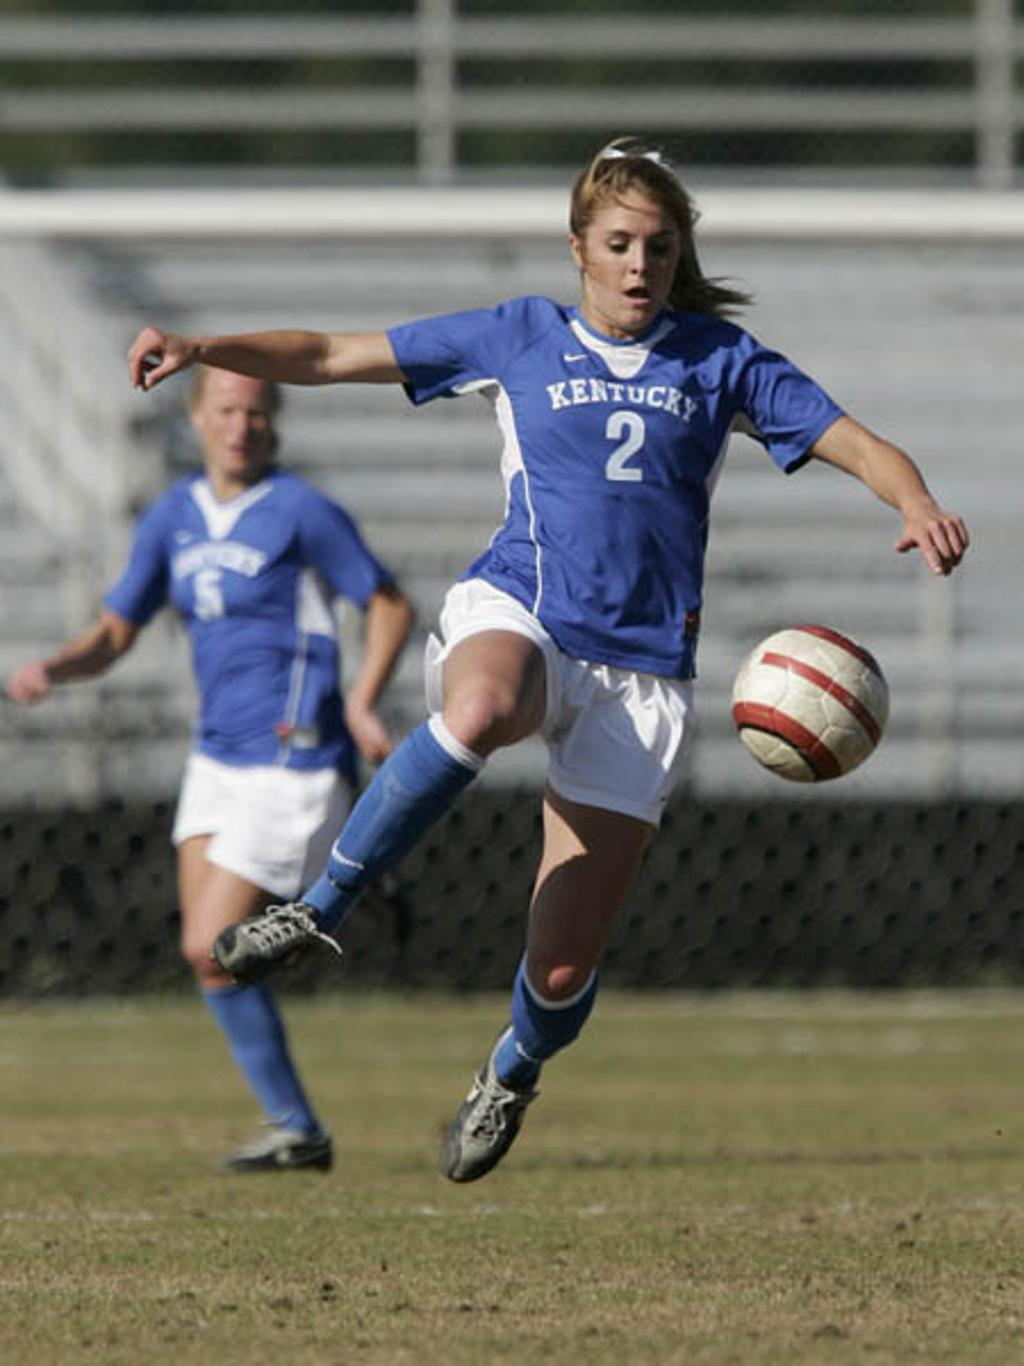face: (587, 181, 680, 328), (203, 368, 278, 475)
